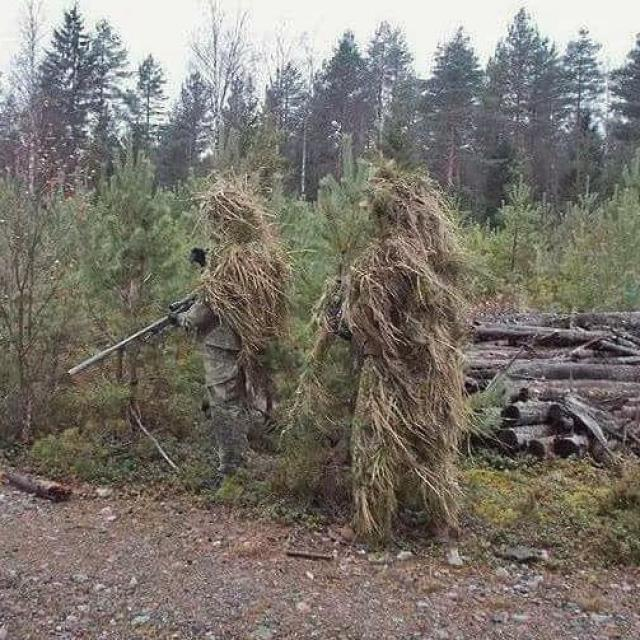Human: (285, 170, 486, 551), (65, 177, 289, 479)
